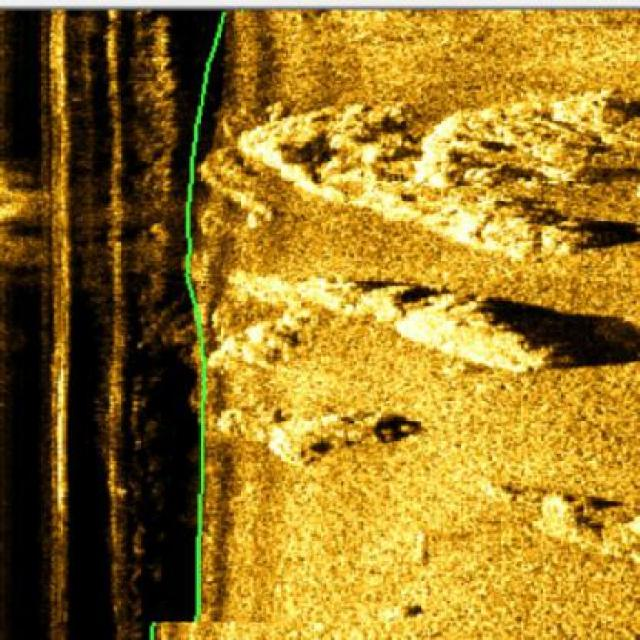bedrock group: (198, 87, 639, 639)
